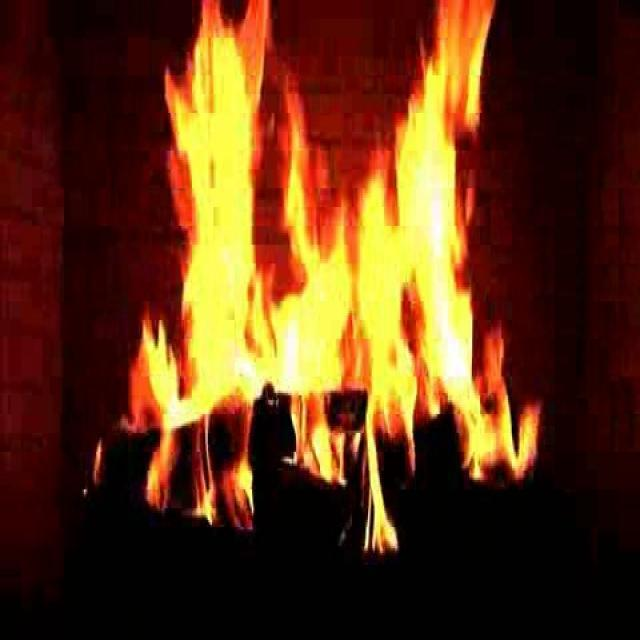Fire: (146, 31, 544, 505)
